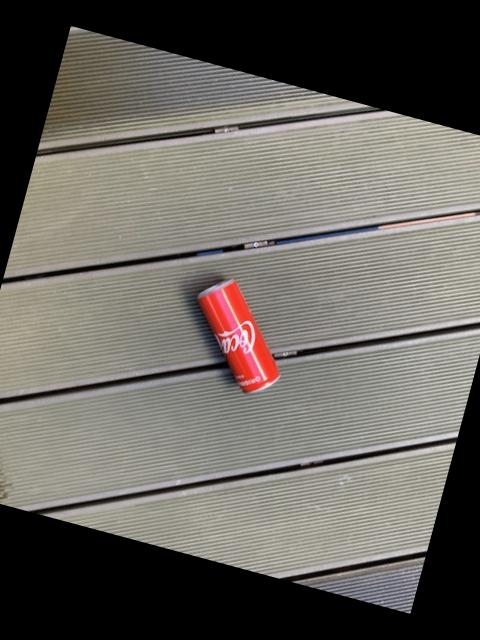metal: (195, 280, 275, 393)
